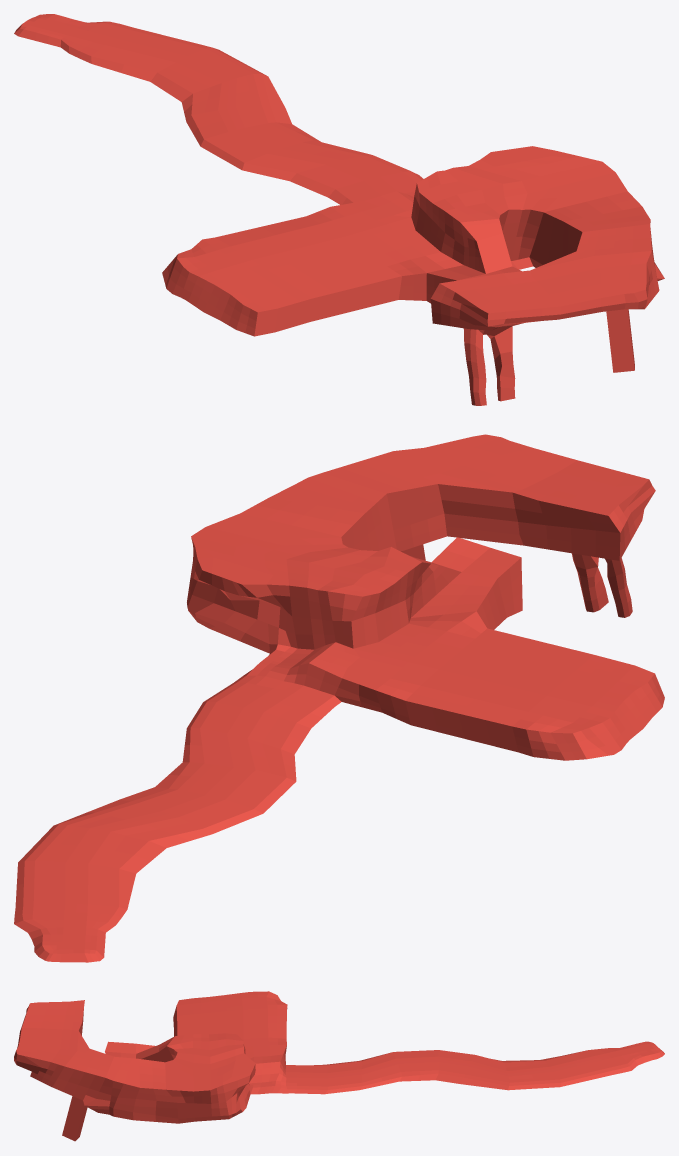
Rendered from islandProto1.fbx.
3 views of the same model, one above another, from view 1: azimuth 30°, elevation 25°; view 2: azimuth 150°, elevation 25°; view 3: azimuth 270°, elevation 25° (orthographic). The views are drawn at different scales.
Visible parts, largest first — view 1: Cube; view 2: Cube; view 3: Cube.
Boxes of the visible parts, x1=… form: Cube: x1=14, y1=14, x2=664, y2=405; Cube: x1=14, y1=434, x2=664, y2=962; Cube: x1=14, y1=991, x2=664, y2=1141.
Bounding box in the file's own units: 14682 × 4370 × 31511.
